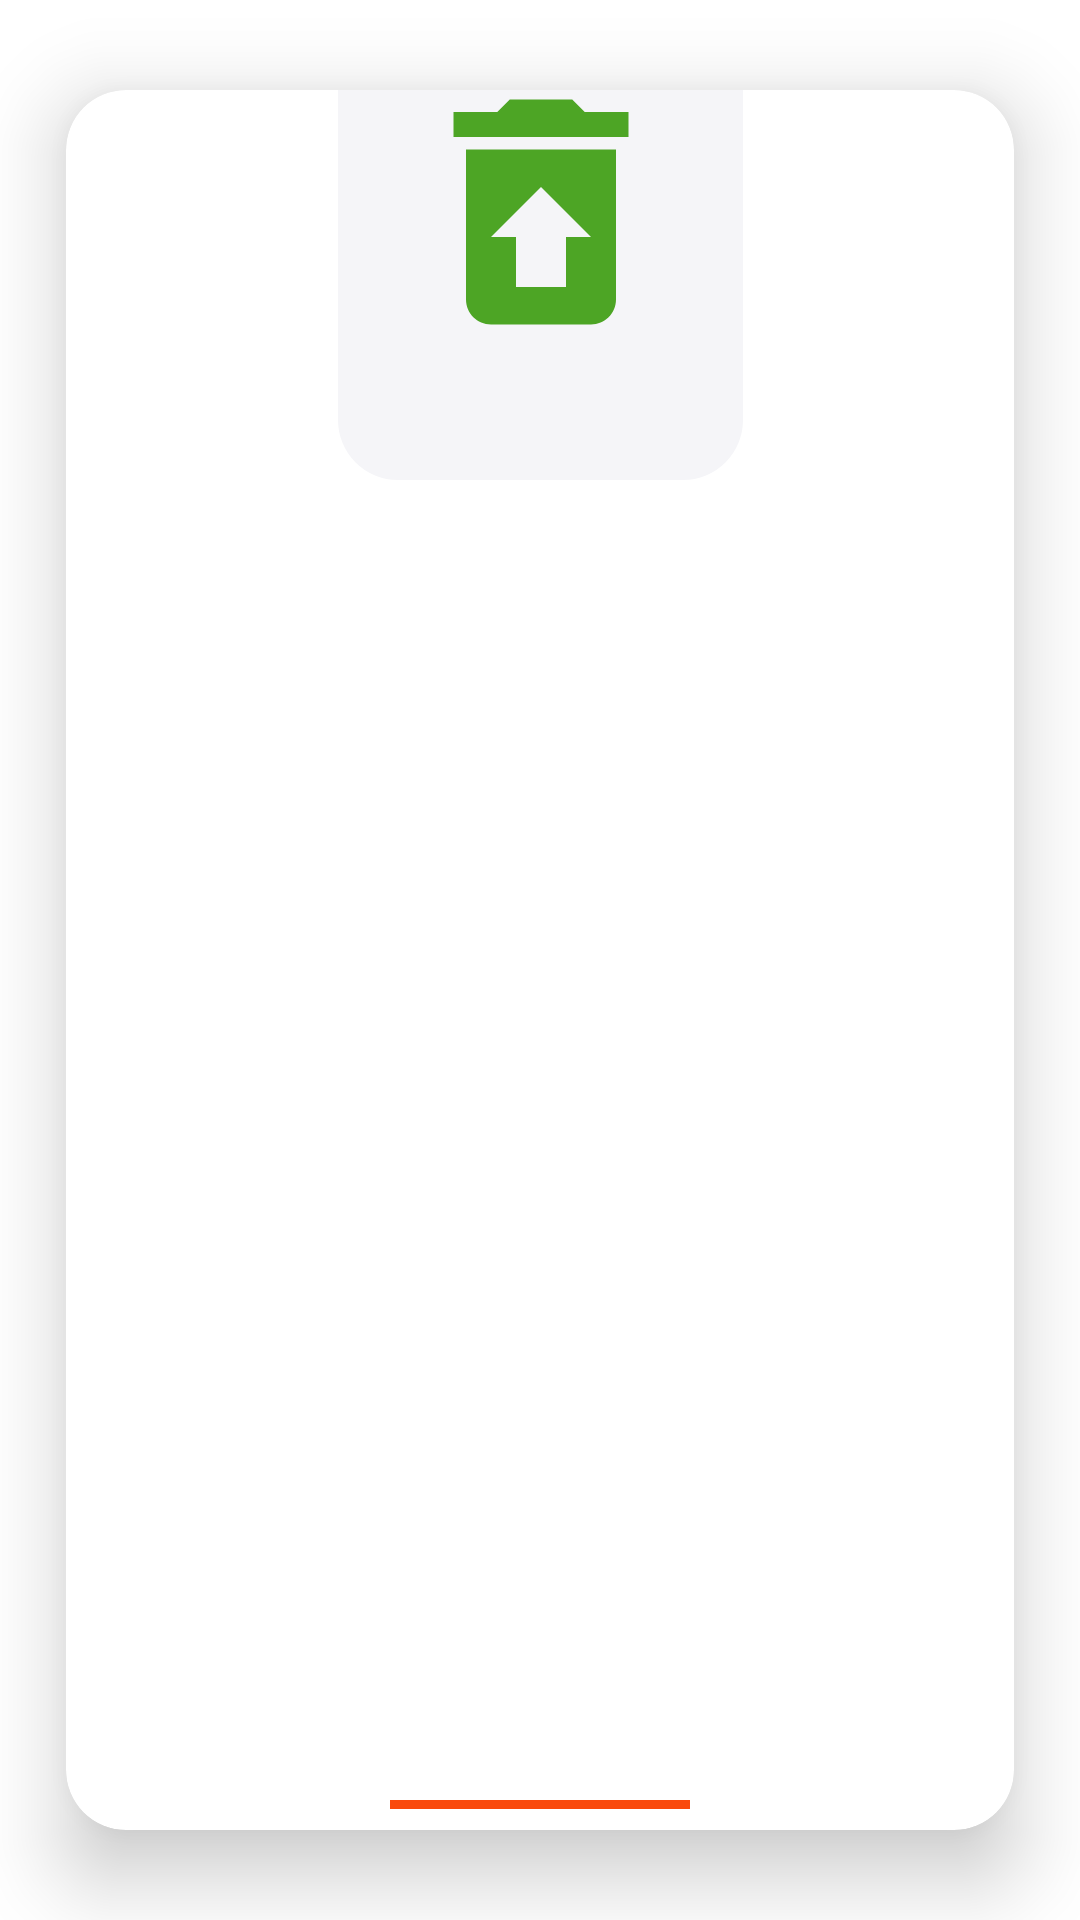

Point at icon controls on the screen. Image size 1080w x 1920h, points as (x=x, y=y).
restore from trash: (x=541, y=212)
